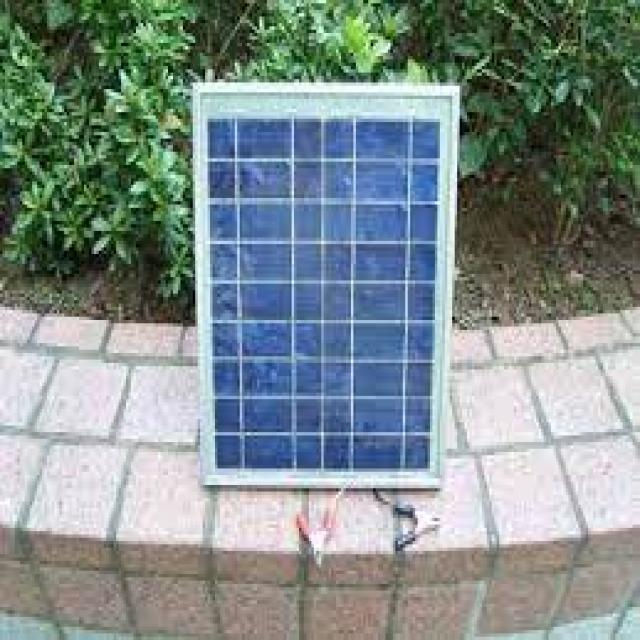faulty: (207, 102, 450, 484)
